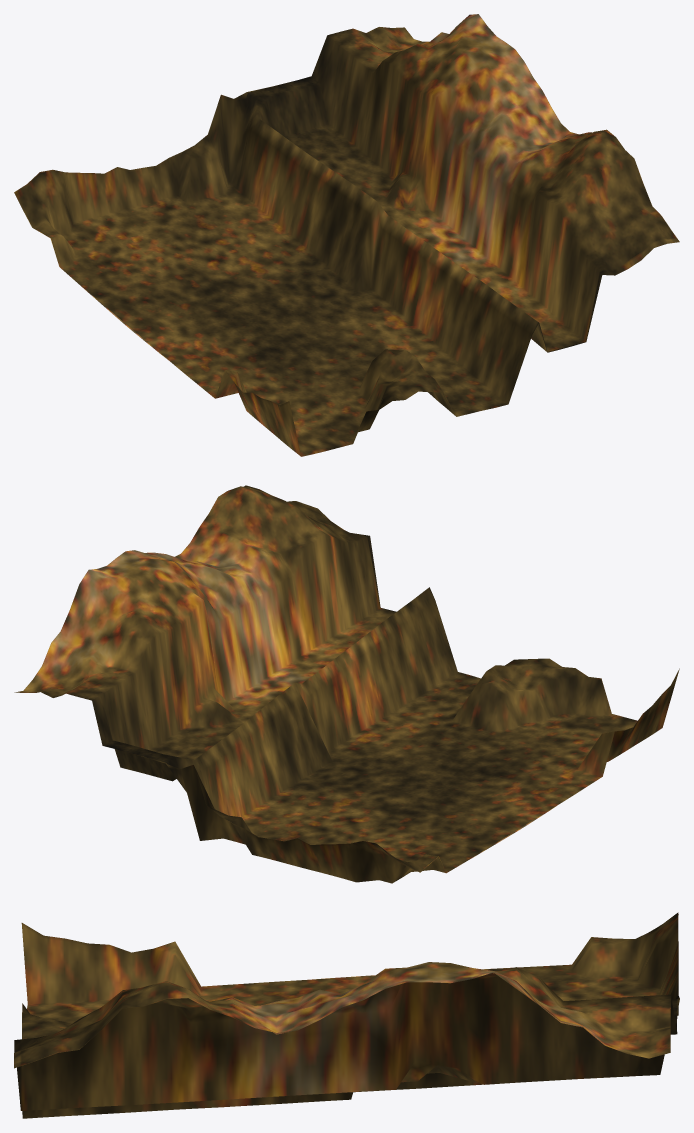
File: kazan6.FBX
3 renders of one model, top to bottom at view 1: azimuth 30°, elevation 25°; view 2: azimuth 150°, elevation 25°; view 3: azimuth 270°, elevation 25°, orthographic. The views are drawn at different scales.
Visible parts, largest first — view 1: Plane001; view 2: Plane001; view 3: Plane001.
Part boxes in pixels (x1=…): Plane001: x1=14, y1=14, x2=679, y2=456; Plane001: x1=14, y1=485, x2=679, y2=883; Plane001: x1=14, y1=912, x2=679, y2=1118.
Size of the model in its own units: 139 by 71.3 by 173.
